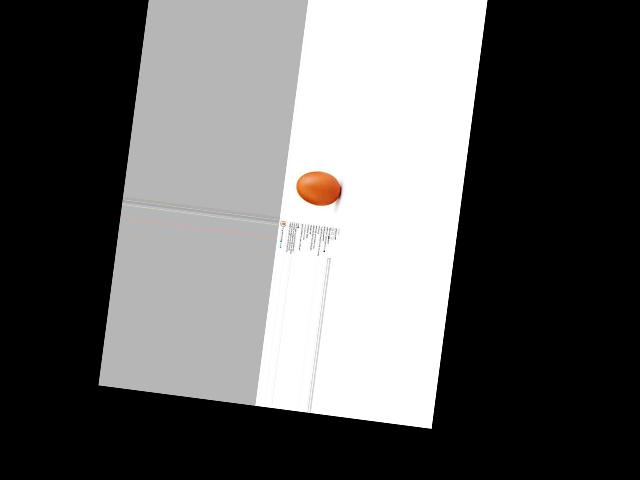egg: (294, 168, 342, 208)
